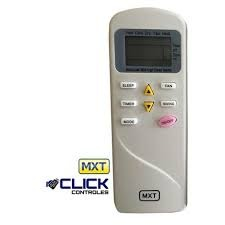remote control: (106, 11, 196, 214)
